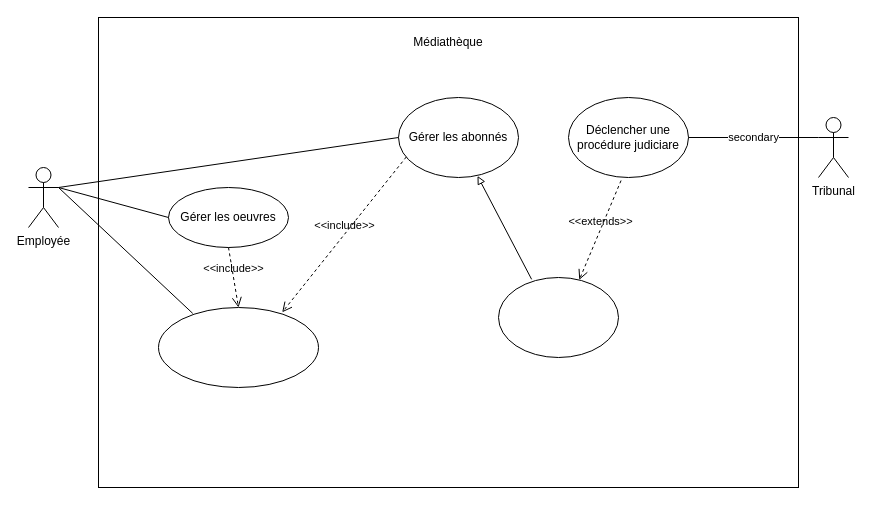
The diagram is 872 pixels wide and 505 high, and some of its shapes have lost their labels. Each missing label, with the centre of its shape:
"S'identifier au système informatique via un mot de passe" belongs at point (238, 347).
"Vérifier que les abonnés sont en règle" belongs at point (558, 317).
